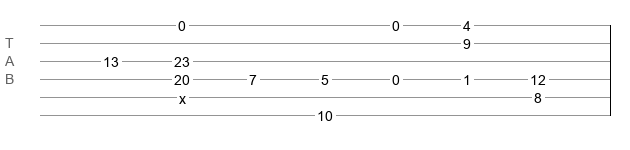0: (178, 18, 186, 28), (392, 18, 400, 28), (392, 72, 400, 82)
1: (463, 72, 471, 82)
10: (317, 108, 333, 118)
12: (530, 72, 546, 82)
13: (103, 54, 119, 64)
20: (174, 72, 190, 82)
23: (174, 54, 190, 64)
4: (463, 18, 471, 28)
5: (321, 72, 329, 82)
7: (249, 72, 257, 82)
8: (534, 90, 542, 100)
9: (463, 36, 471, 46)
x: (179, 91, 186, 99)
